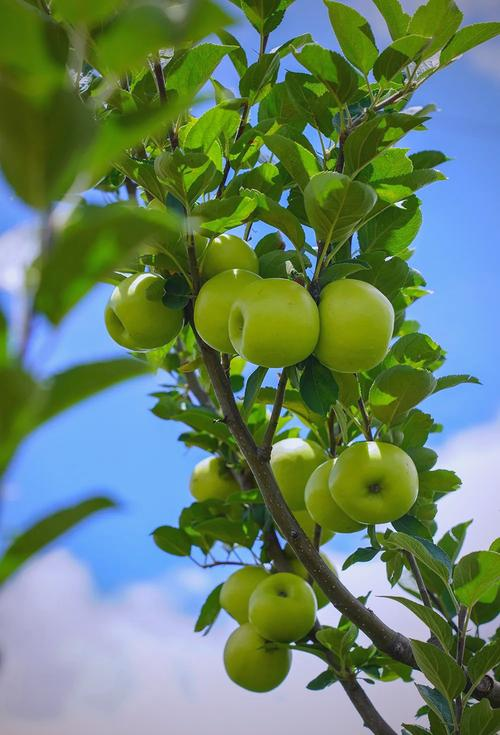unripe: (223, 270, 324, 369), (308, 283, 409, 371), (88, 266, 184, 352), (330, 437, 424, 523), (180, 218, 268, 294), (193, 268, 268, 354), (242, 566, 321, 641), (257, 429, 326, 514), (217, 619, 294, 692), (216, 557, 270, 628), (180, 456, 253, 506)
